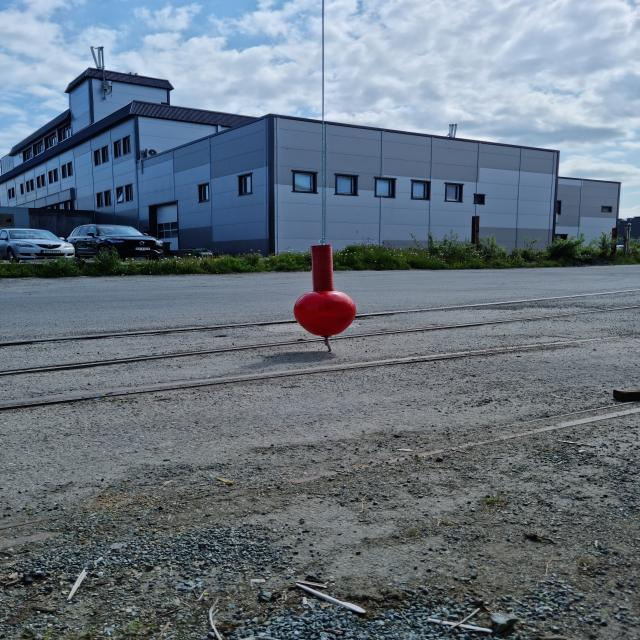red: (294, 245, 356, 336)
